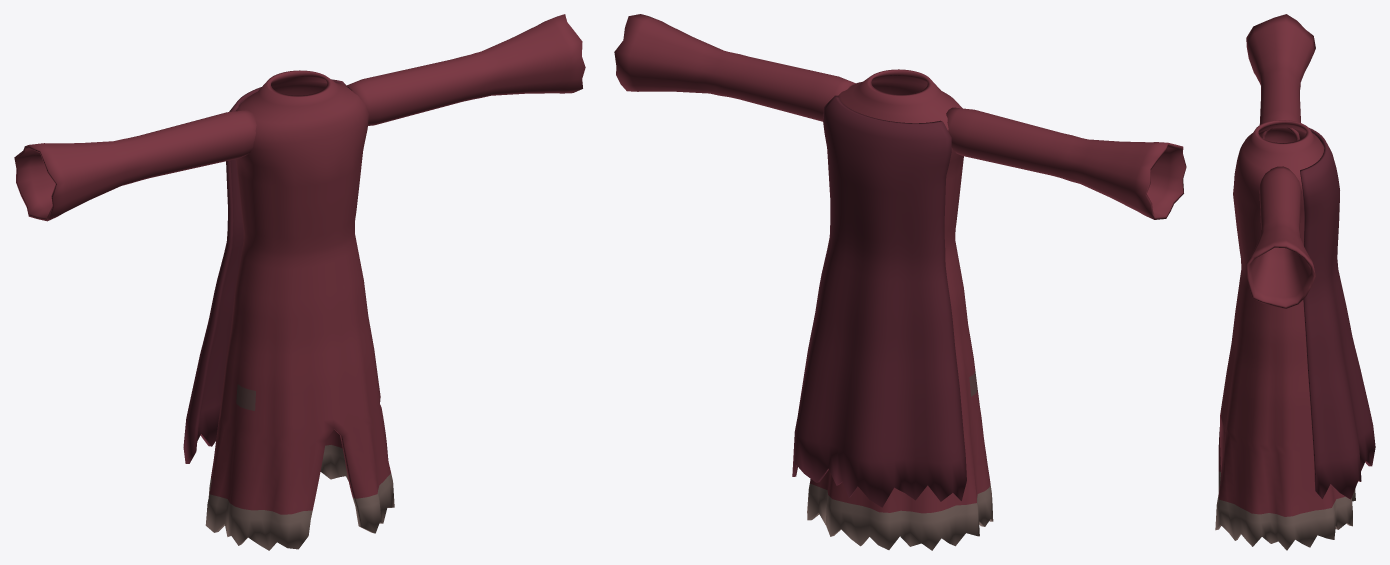
File: SinGarment.fbx
3 views of the same model, side by side, from view 1: azimuth 30°, elevation 25°; view 2: azimuth 150°, elevation 25°; view 3: azimuth 270°, elevation 25° (orthographic). The views are drawn at different scales.
Visible parts, largest first — view 1: SinGarment; view 2: SinGarment; view 3: SinGarment.
Boxes of the visible parts, x1,y1,x2,y2 form: SinGarment: [14, 14, 585, 550]; SinGarment: [614, 14, 1186, 550]; SinGarment: [1215, 14, 1375, 550].
Size of the model in its own units: 93.4 by 72.7 by 27.32.
